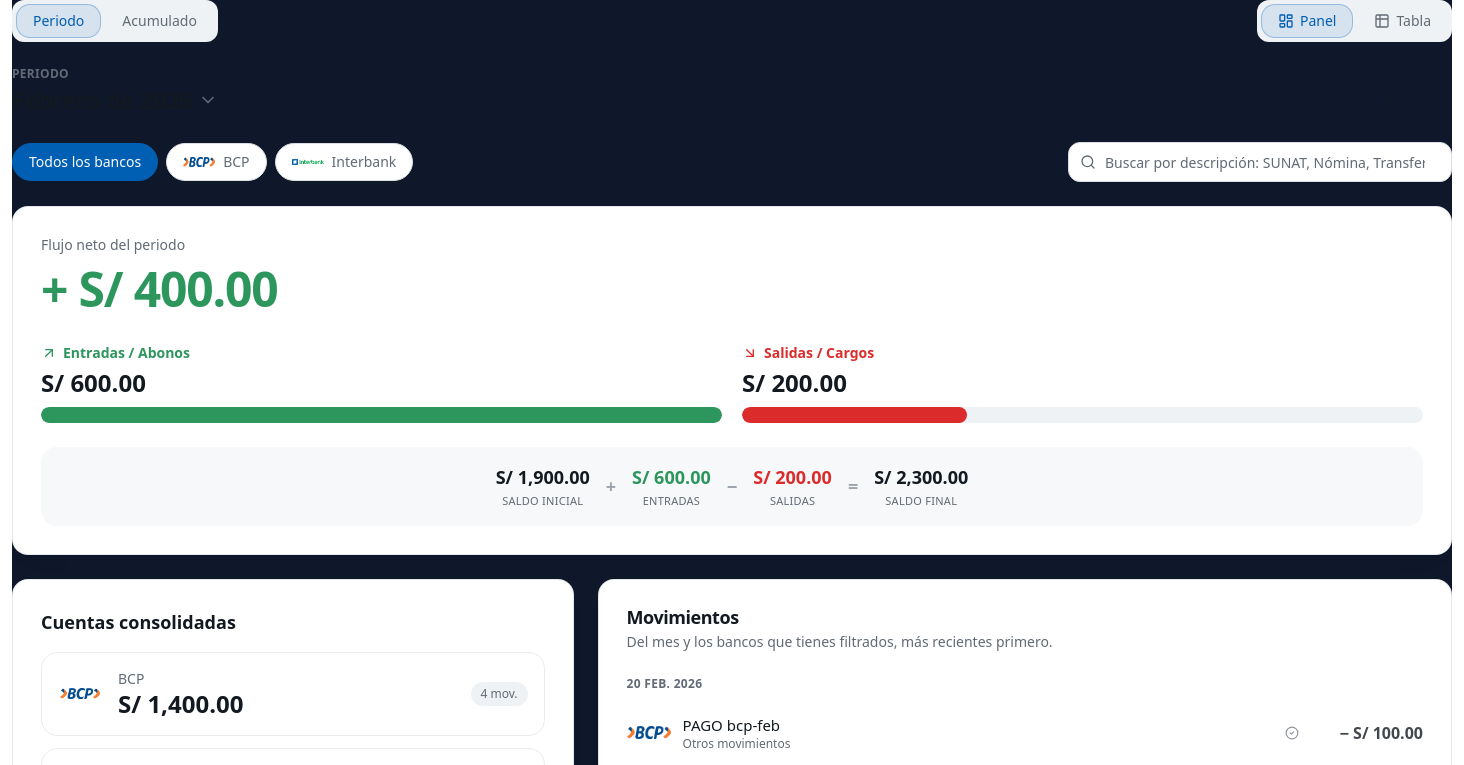
Test: FinancialCenter: visualización y alcance › Tabla normal: solo las filas del periodo elegido, con totales
What coordinates should you click on to do the following:
click the button "Tabla"
I would click on:
 (1403, 21)
Its box is [1357,4,1448,38].
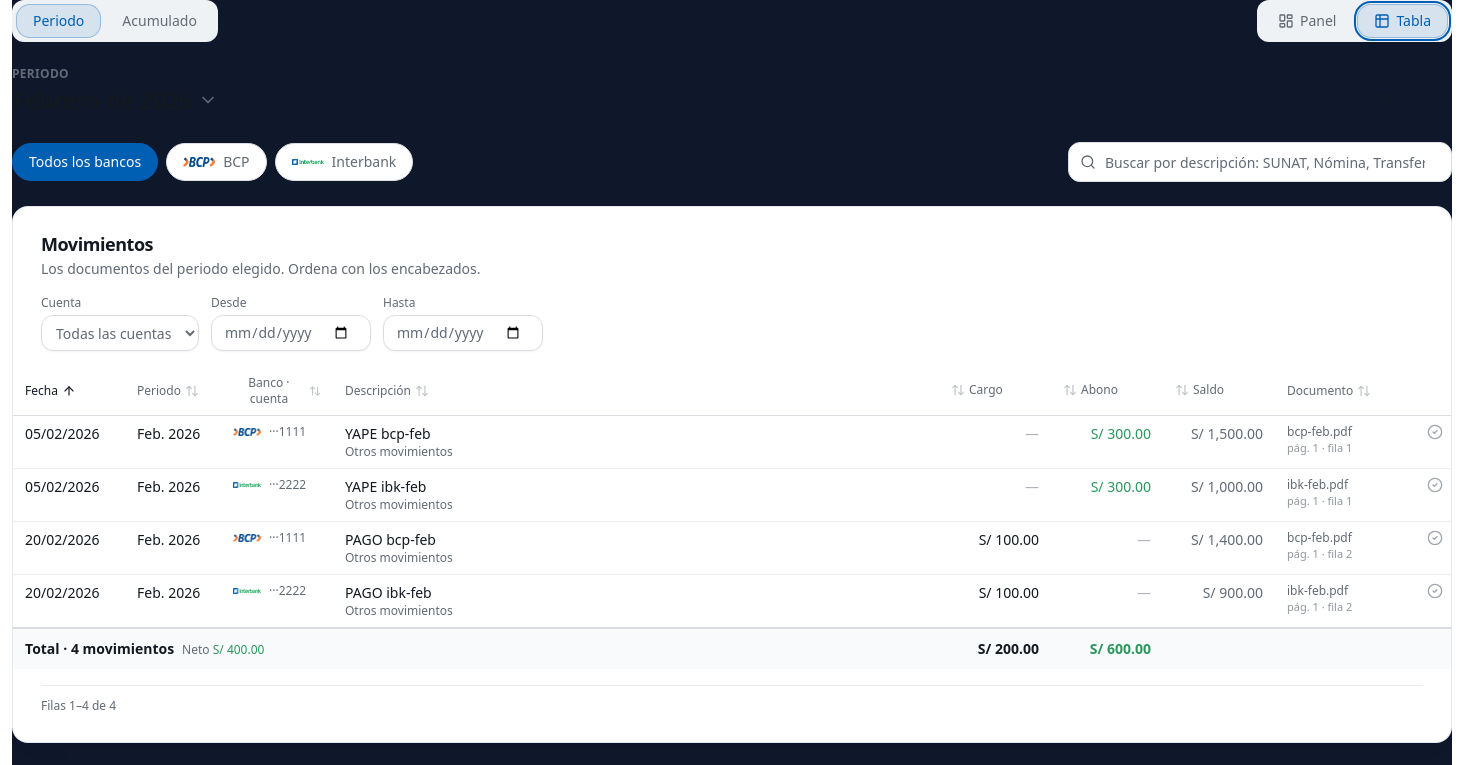
Expected: the text "Total · 4 movimientos" is shown, [13,628,939,669]
